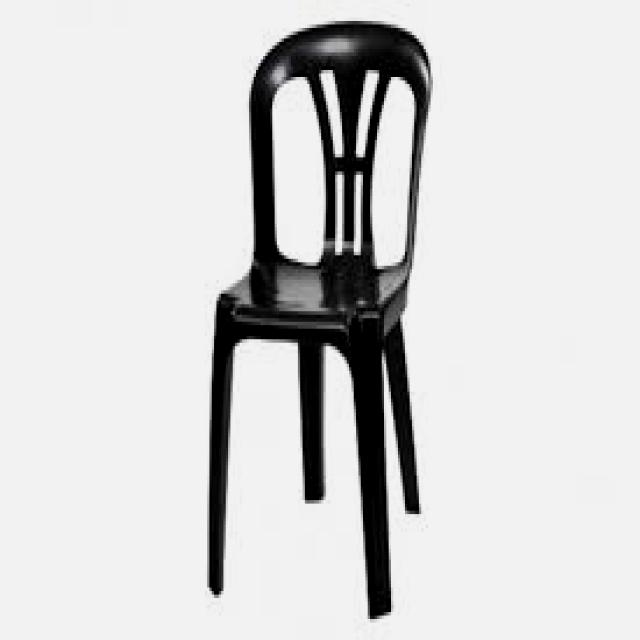Chair: (206, 19, 438, 620)
